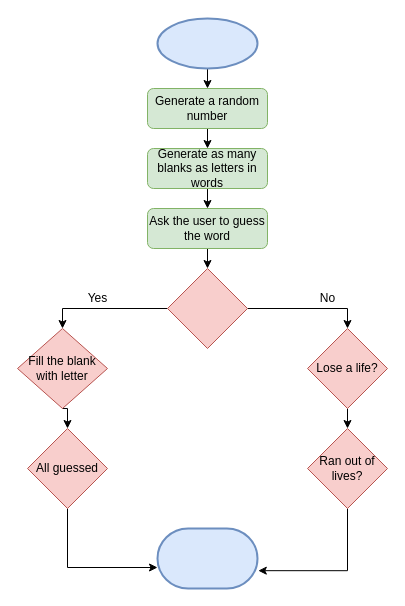
Image size: 405x606. Some labels were removed from this diagram. Here are the shapes that lost their labels. From the top down, the box of each, then its label:
(156, 17, 258, 69): Start
(166, 268, 248, 348): Is she guessed the letter
(156, 527, 258, 589): Game over
